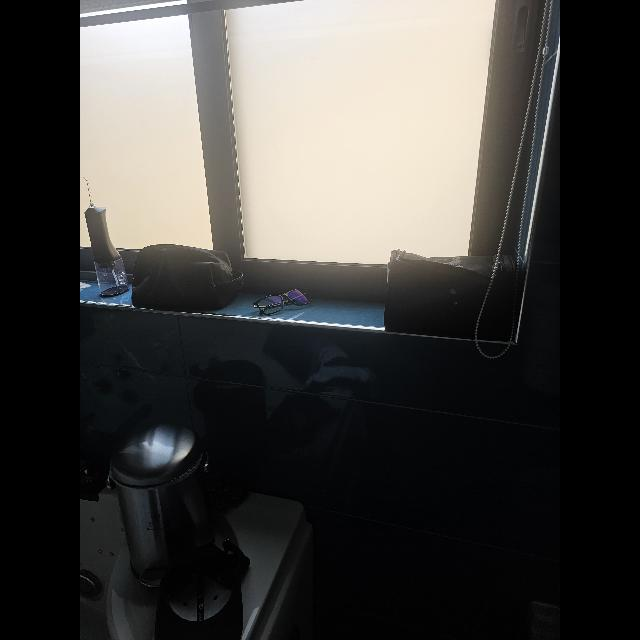glasses: (252, 289, 312, 315)
